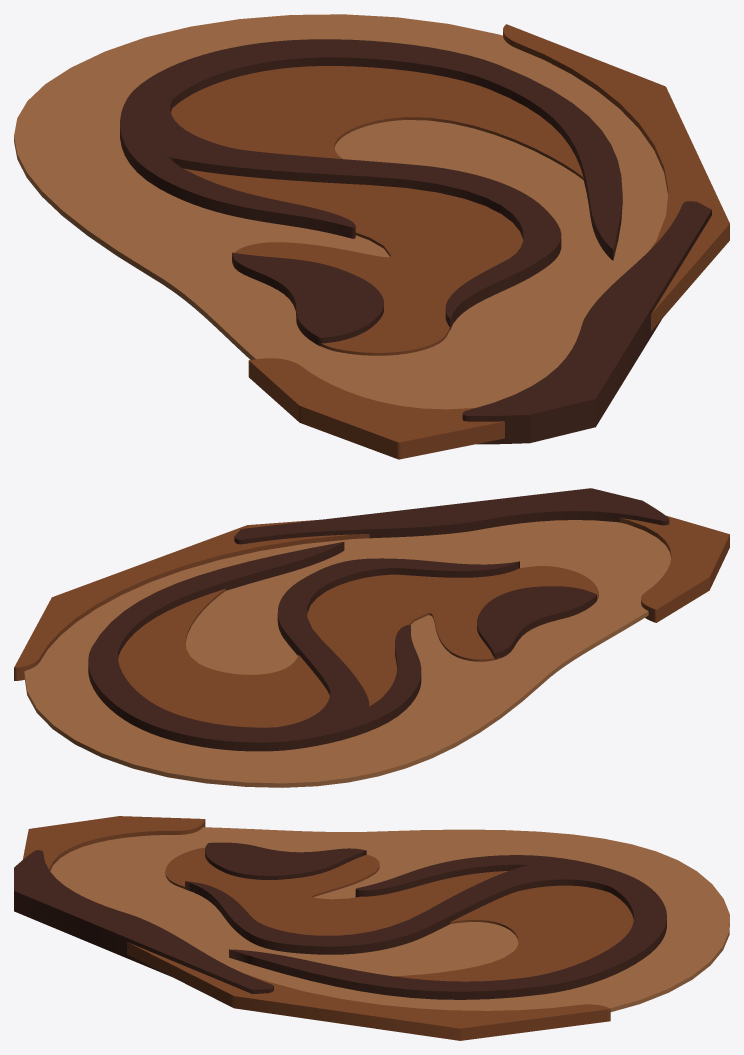
File: emoji_u1f442_1f3fe.glb
3 renders of one model, top to bottom at view 1: azimuth 30°, elevation 25°; view 2: azimuth 150°, elevation 25°; view 3: azimuth 270°, elevation 25°, orthographic. The views are drawn at different scales.
Visible parts, largest first — view 1: emoji_u1f442_1f3fe; view 2: emoji_u1f442_1f3fe; view 3: emoji_u1f442_1f3fe.
Part boxes in pixels (<box>): emoji_u1f442_1f3fe: <box>14,14,729,459</box>; emoji_u1f442_1f3fe: <box>14,488,729,787</box>; emoji_u1f442_1f3fe: <box>14,816,729,1040</box>.
Bounding box in the file's own units: 0.0222 × 0.001 × 0.0316.
